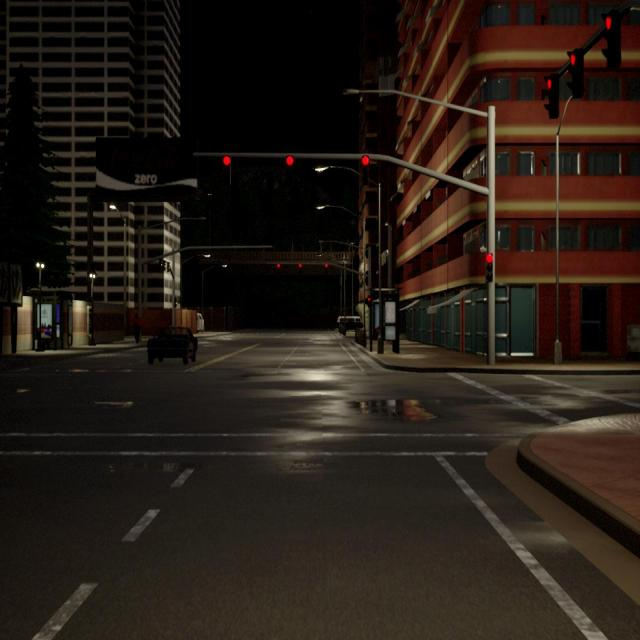Pedestrian: (132, 312, 144, 343)
Vehicle: (148, 326, 198, 365), (337, 316, 363, 328), (196, 314, 205, 330)
traffic_light: (601, 12, 622, 67), (542, 74, 560, 120), (567, 51, 584, 98), (221, 154, 232, 182), (484, 253, 492, 282), (361, 154, 369, 178), (286, 154, 294, 178), (367, 295, 371, 306), (159, 260, 162, 272), (163, 261, 166, 272), (167, 262, 170, 273), (276, 263, 280, 268), (298, 263, 302, 268), (325, 263, 328, 268)
